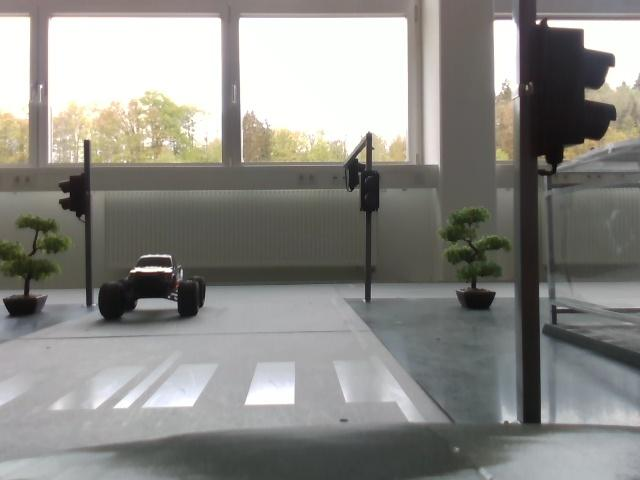car: (97, 249, 214, 334)
potted plant: (1, 217, 69, 327), (444, 204, 512, 309)
traffic light: (525, 28, 621, 166), (63, 162, 100, 222), (356, 166, 384, 214)
